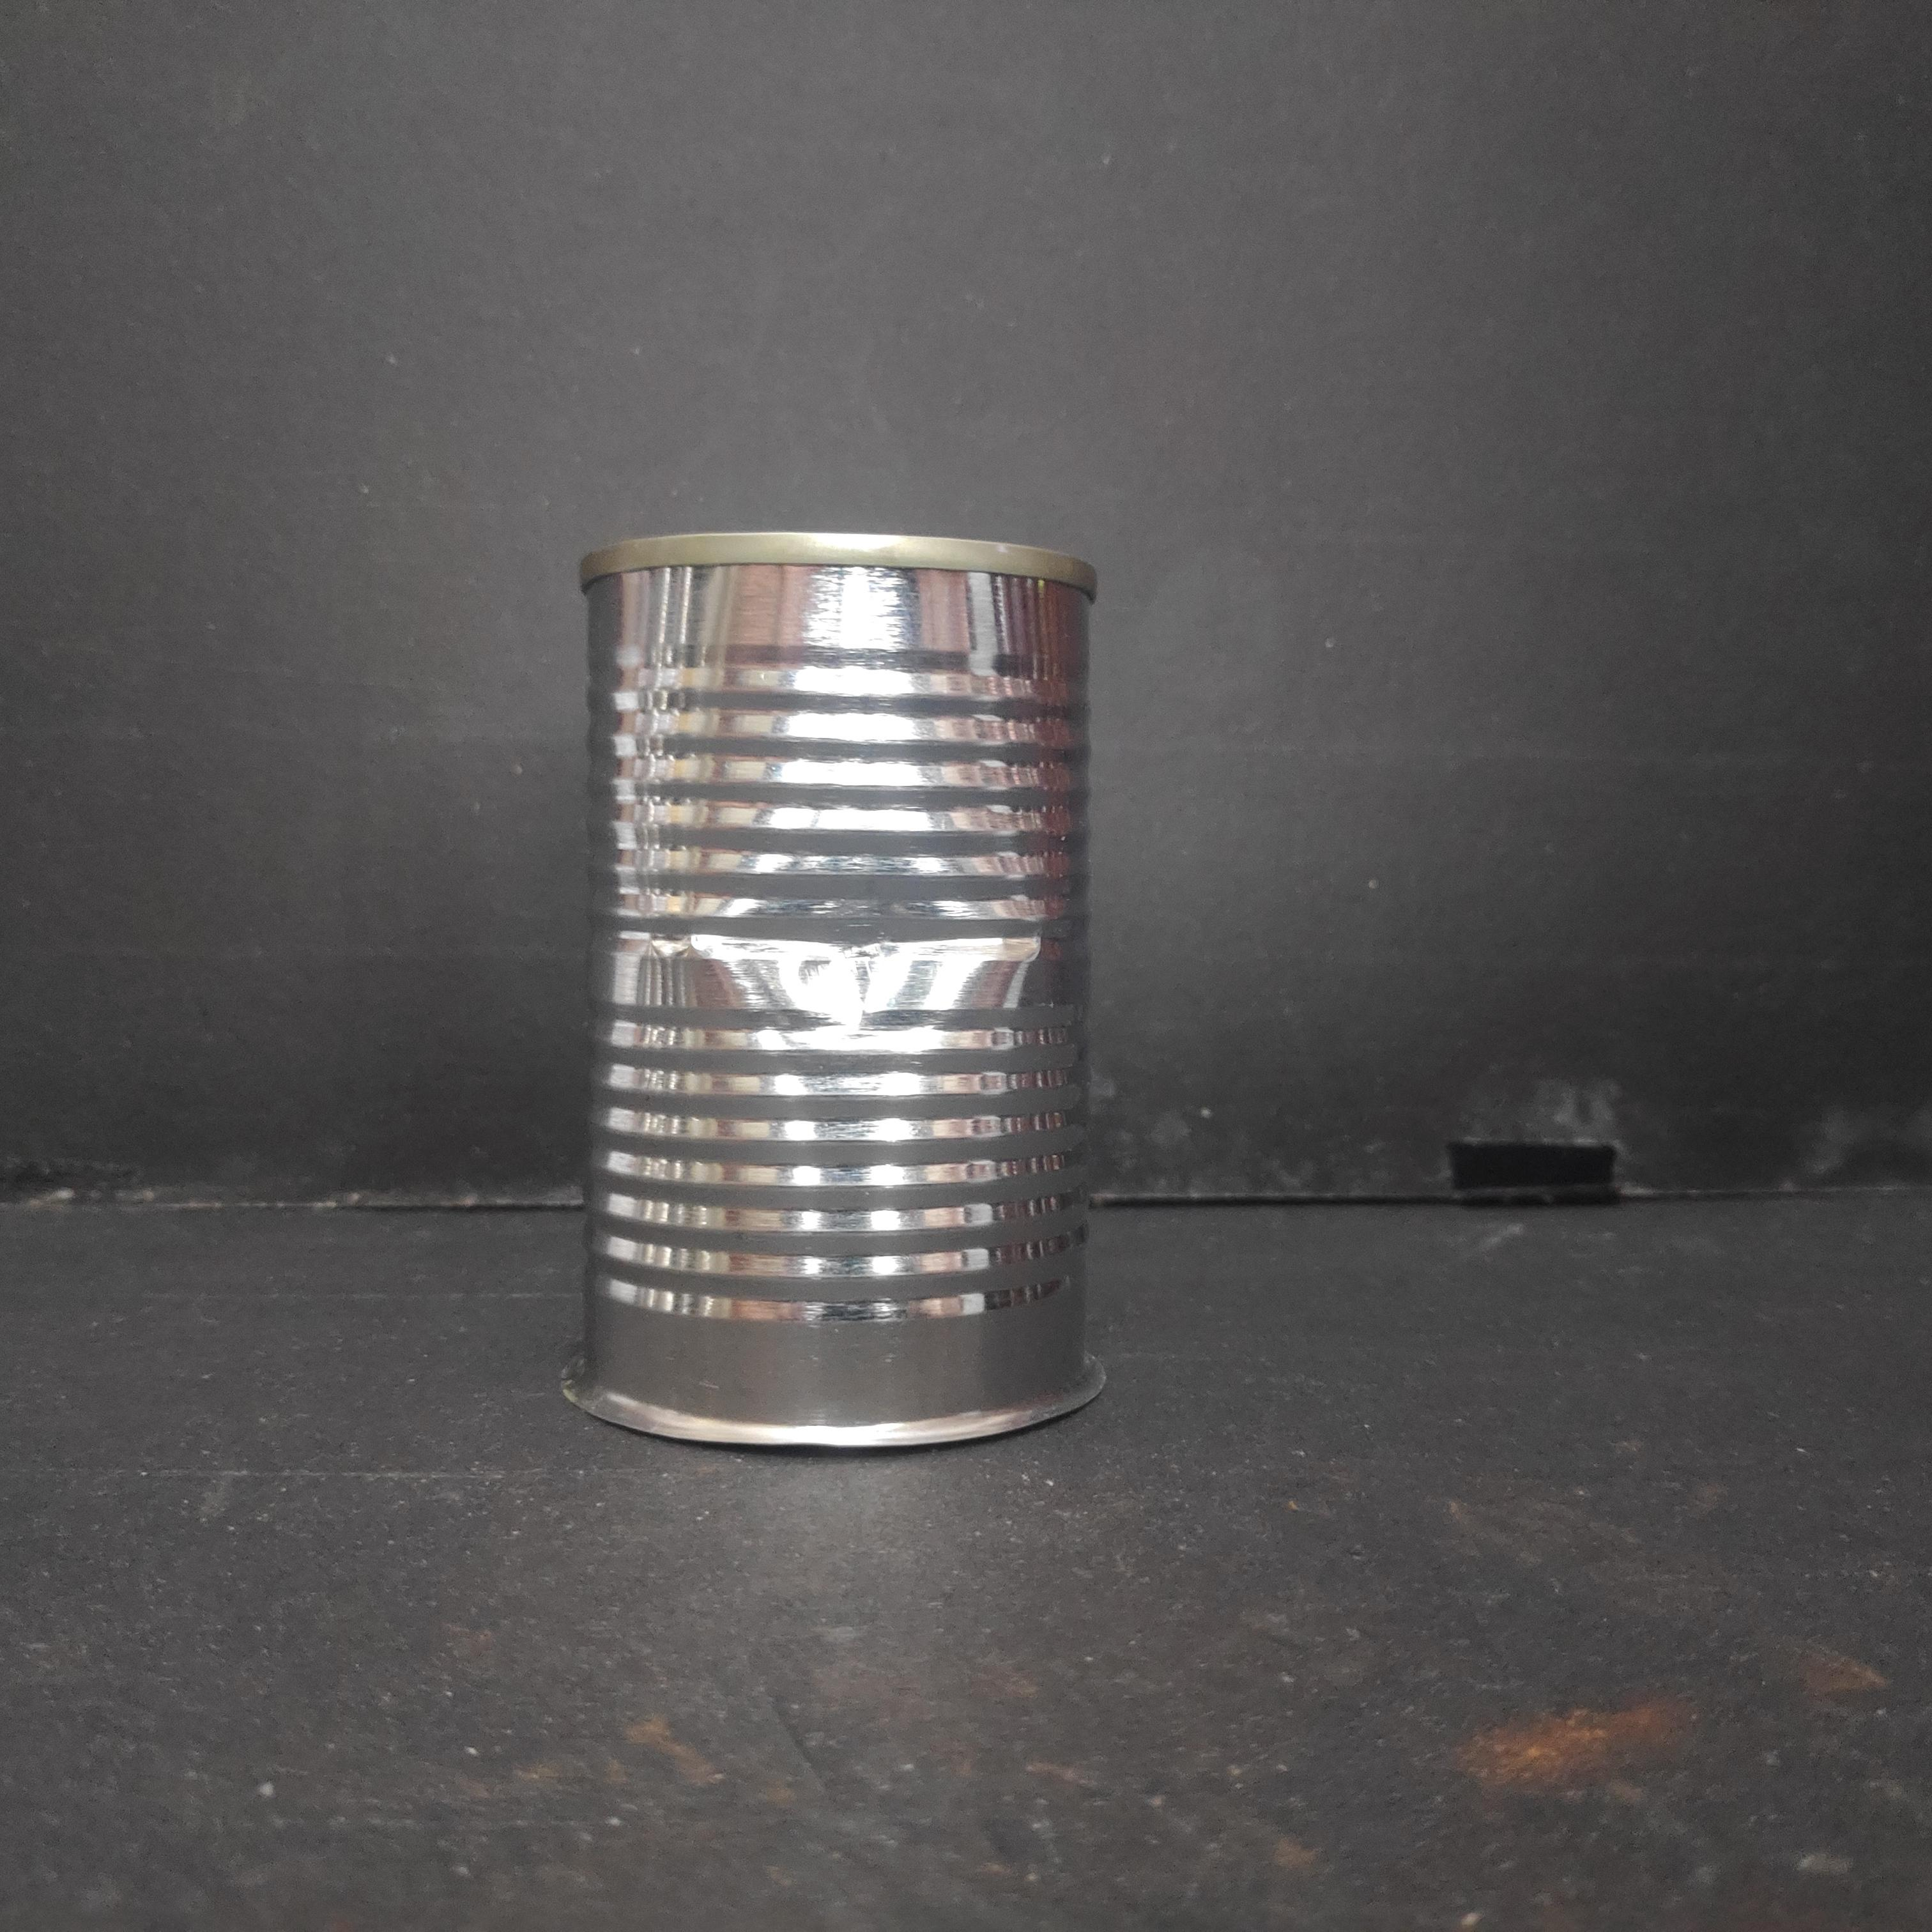Minor Defect: (563, 521, 1111, 1453)
